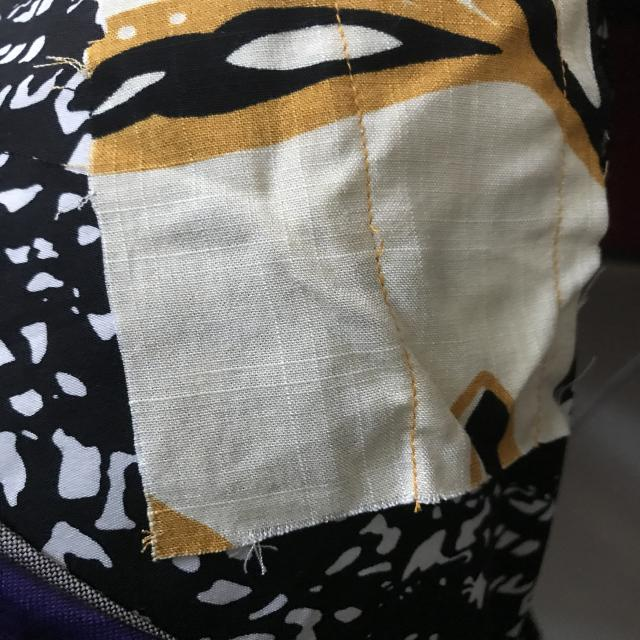broken: (353, 211, 398, 269)
